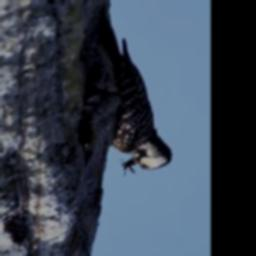Woodpecker: (78, 2, 172, 179)
